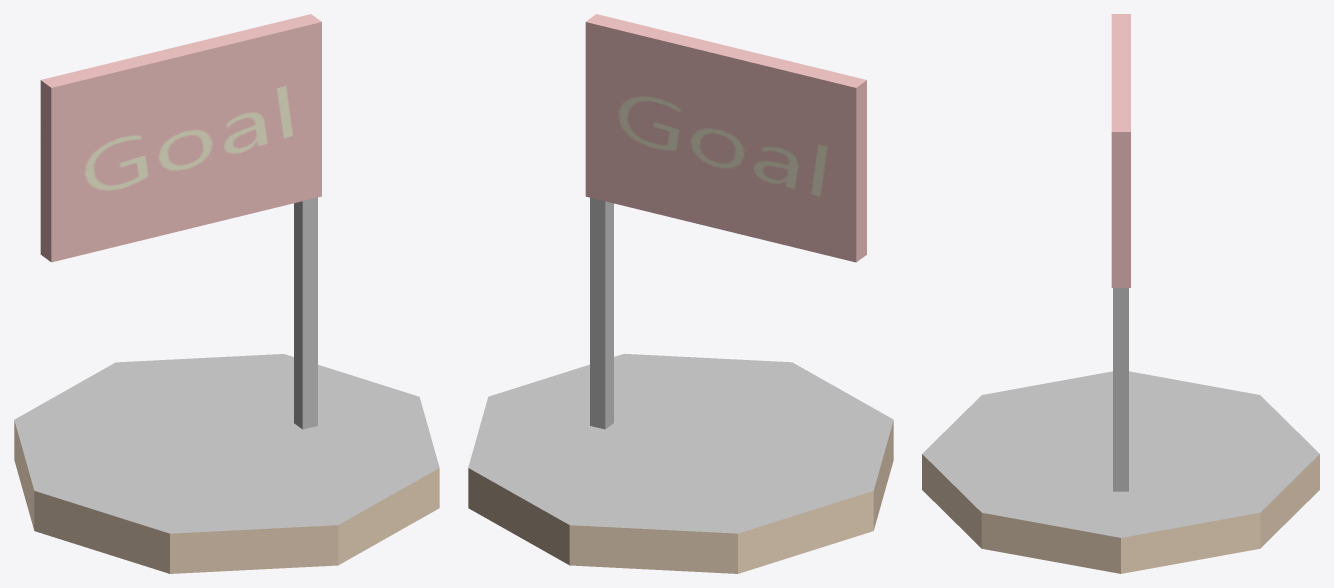
Rendered from goal.obj.
The picture shows the model from 3 angles, left to right: view 1: azimuth 30°, elevation 25°; view 2: azimuth 150°, elevation 25°; view 3: azimuth 270°, elevation 25°; orthographic projection. The views are drawn at different scales.
Parts seen in each view (by area): view 1: Cube; view 2: Cube; view 3: Cube.
Boxes of the visible parts, bbox=[...] form: Cube: bbox=[14, 14, 439, 573]; Cube: bbox=[468, 14, 893, 573]; Cube: bbox=[922, 14, 1319, 573].
Size of the model in its own units: 2 by 2.2 by 2.
